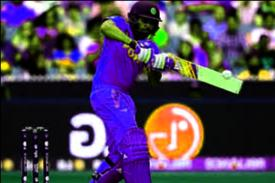batsman: (89, 0, 193, 183)
